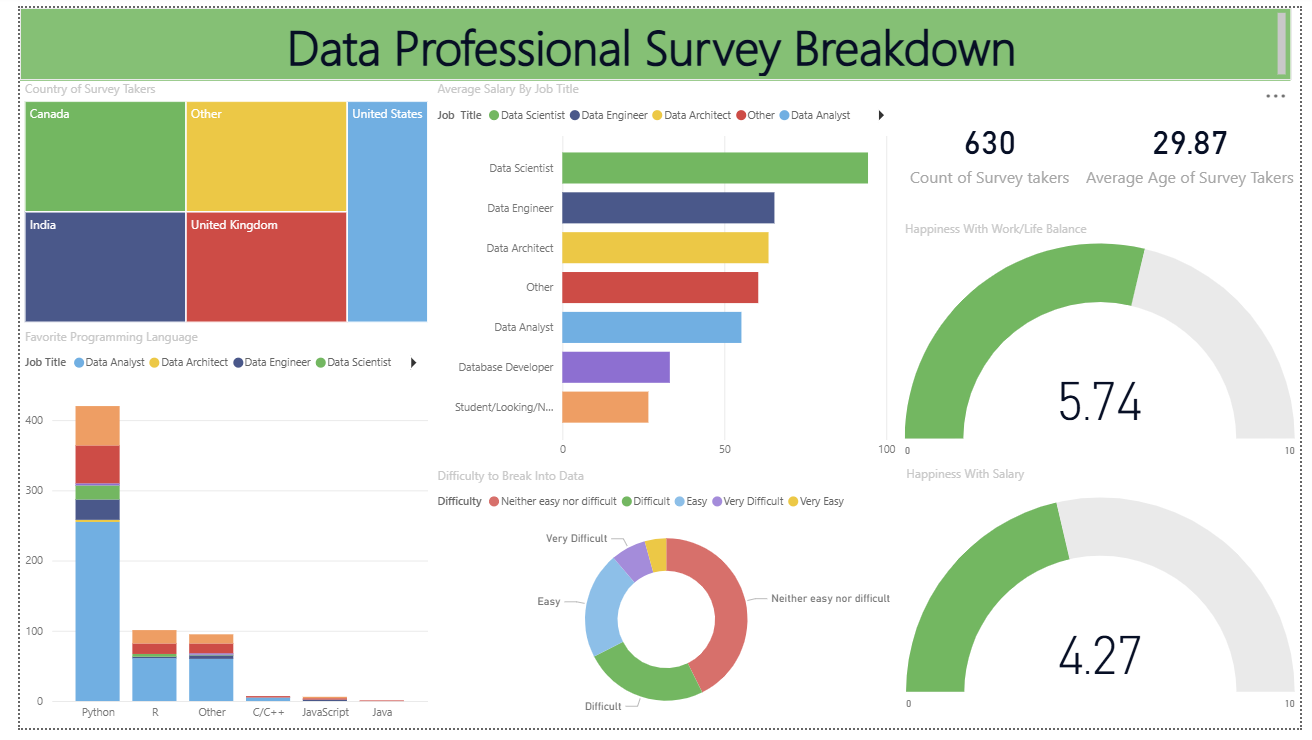

This screenshot's page, from the dashboard's own definition file:
{"tool":"powerbi","page":{"name":"Page 1","canvas":[1280,720],"ordinal":0},"visuals":[{"type":"textbox","box":[0,0,1270.7,72.7],"z":0},{"type":"card","fields":{"Values":["Count(Data Professional Survey.Unique ID)"]},"box":[880.4,72.1,179.8,140.6],"z":1000},{"type":"card","fields":{"Values":["Avg(Data Professional Survey.Q10 - Current Age)"]},"box":[1060.2,72.1,220.1,140.6],"z":2000},{"type":"barChart","title":" Average Salary By Job Title","fields":{"Category":["Data Professional Survey.Q1 - Which Title Best Fits your Current Role?.1"],"Y":["Avg(Data Professional Survey.Average Salary)"],"Series":["Data Professional Survey.Q1 - Which Title Best Fits your Current Role?.1"]},"box":[413,72.7,467.9,385.6],"z":3000},{"type":"columnChart","title":" Favorite Programming Language","fields":{"Category":["Data Professional Survey.Q5 - Favorite Programming Language.1"],"Y":["CountNonNull(Data Professional Survey.Unique ID)"],"Series":["Data Professional Survey.Q1 - Which Title Best Fits your Current Role?.1"]},"box":[0,319.7,413,400.7],"z":4000},{"type":"treemap","title":"Country of Survey Takers","fields":{"Group":["Data Professional Survey.Q11 - Which Country do you live in?.1"],"Values":["Count(Data Professional Survey.Q11 - Which Country do you live in?.1)"]},"box":[0,72.7,413,247],"z":5000},{"type":"gauge","title":"Happiness With Salary ","fields":{"Y":["Avg(Data Professional Survey.Q6 - How Happy are you in your Current Position with the following? (Salary))"],"MinValue":["Min(Data Professional Survey.Q6 - How Happy are you in your Current Position with the following? (Salary))"],"MaxValue":["Max(Data Professional Survey.Q6 - How Happy are you in your Current Position with the following? (Salary))"]},"box":[881.7,457.3,398.6,262.9],"z":6000},{"type":"gauge","title":"Happiness With Work/Life Balance","fields":{"Y":["Avg(Data Professional Survey.Q6 - How Happy are you in your Current Position with the following? (Work/Life Balance))"],"MinValue":["Min(Data Professional Survey.Q6 - How Happy are you in your Current Position with the following? (Work/Life Balance))"],"MaxValue":["Max(Data Professional Survey.Q6 - How Happy are you in your Current Position with the following? (Work/Life Balance))1"]},"box":[880.4,212.8,399.9,245.8],"z":7000},{"type":"donutChart","title":"Difficulty to Break Into Data","fields":{"Category":["Data Professional Survey.Q7 - How difficult was it for you to break into Data?"],"Y":["CountNonNull(Data Professional Survey.Q7 - How difficult was it for you to break into Data?)"]},"box":[413,458.3,467.9,262.1],"z":8000}]}

Visuals, with their boxes in screenshot pixels (x1, y1, x2, y2), scaled from the page's 1280x720 canvas onto the 1312x740 screenshot:
textbox: [0,0,1302,75]
card - Count(Data Professional Survey.Unique ID): [902,74,1087,219]
card - Avg(Data Professional Survey.Q10 - Current Age): [1087,74,1311,219]
" Average Salary By Job Title" barChart: [423,75,903,471]
" Favorite Programming Language" columnChart: [0,329,423,739]
"Country of Survey Takers" treemap: [0,75,423,329]
"Happiness With Salary " gauge: [904,470,1311,739]
"Happiness With Work/Life Balance" gauge: [902,219,1311,471]
"Difficulty to Break Into Data" donutChart: [423,471,903,739]
